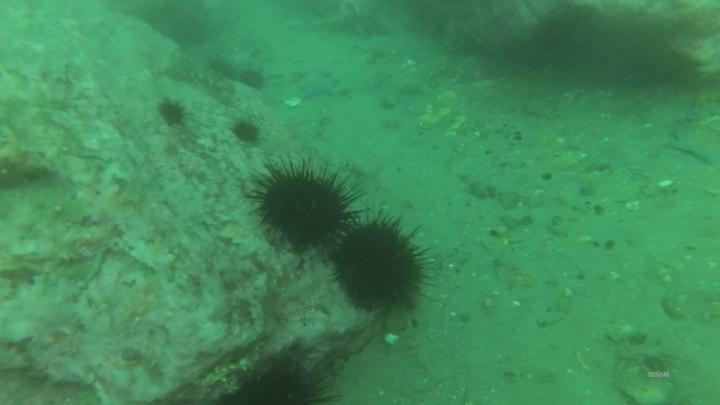echinus: (337, 220, 421, 312), (259, 172, 350, 246), (232, 369, 321, 405), (233, 122, 258, 146), (211, 59, 239, 80), (160, 101, 183, 125), (239, 69, 264, 91)
holothurian: (164, 49, 231, 93)
scallop: (385, 334, 401, 347)
starfish: (674, 129, 720, 165), (298, 75, 337, 97)
